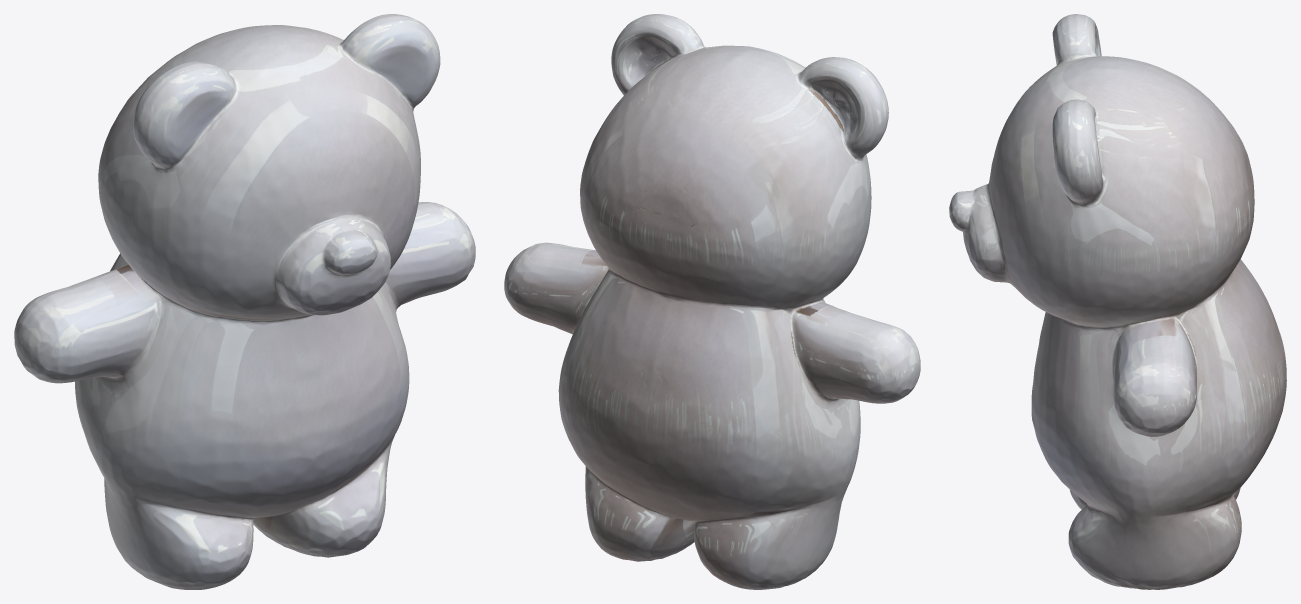
Rendered from jelly1.fbx.
3 views of the same model, side by side, from view 1: azimuth 30°, elevation 25°; view 2: azimuth 150°, elevation 25°; view 3: azimuth 270°, elevation 25° (orthographic). The views are drawn at different scales.
Visible parts, largest first — view 1: texture_mapping; view 2: texture_mapping; view 3: texture_mapping.
Boxes of the visible parts, x1,y1,x2,y2 form: texture_mapping: (14,14,475,589); texture_mapping: (504,14,920,589); texture_mapping: (949,14,1286,589).
Bounding box in the file's own units: 0.8552 × 0.6266 × 0.9919.
Materials: 1 (1 with a texture image).
